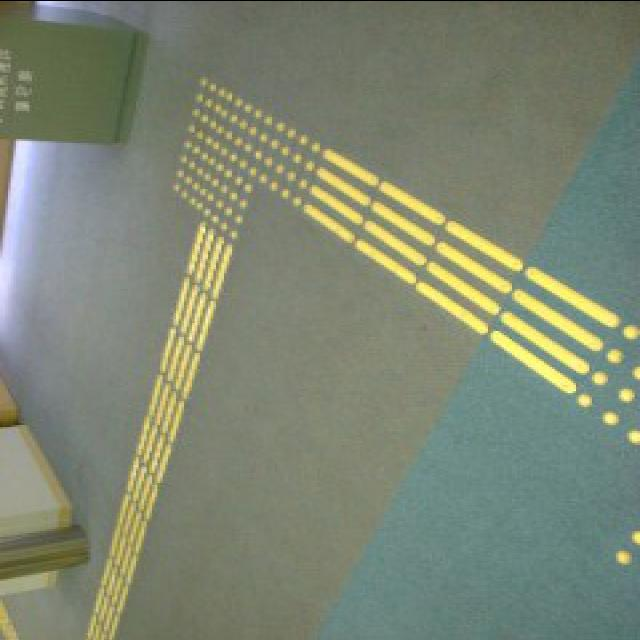tactile-guide-path: (301, 148, 619, 392), (88, 226, 238, 638), (170, 78, 322, 238), (576, 322, 638, 448)
